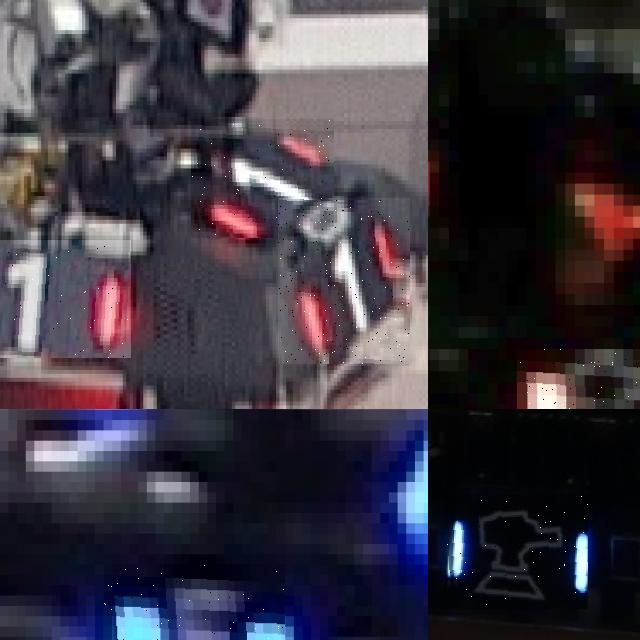B5: (103, 564, 285, 640)
Bs: (444, 495, 588, 609)
R1: (278, 198, 410, 364), (191, 119, 334, 238), (0, 239, 131, 358)
Rs: (517, 348, 640, 409)
